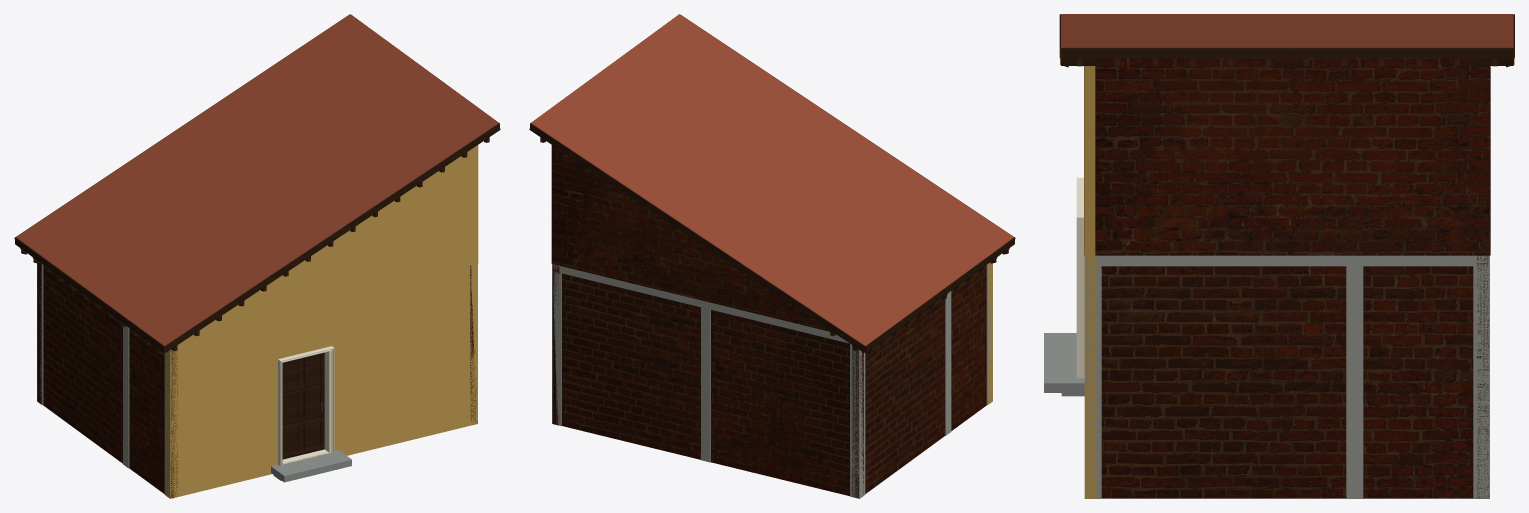
File: building.glb
The picture shows the model from 3 angles, left to right: view 1: azimuth 30°, elevation 25°; view 2: azimuth 150°, elevation 25°; view 3: azimuth 270°, elevation 25°; orthographic projection. The views are drawn at different scales.
Parts seen in each view (by area): view 1: roof_assembly/cubierta/roof_cover#0001, house:0/edge0/z0/house:0/edge0/z0/wall_0_0, house:0/edge3/z0/house:0/edge3/z0/wall_0_0, roof_assembly/cubierta/roof_gable_closure#0002, roof_assembly/cubierta/roof_fascia#0002, site/entrance/0/entrance_step#0002, roof_assembly/cubierta/roof_fascia#0001, house:0/edge3/z0/house:0/edge3/z0/column_2_0, house:0/edge0/z0/opening_u2.80_v0.12/door_panel_back#0001, house:0/edge3/z0/house:0/edge3/z0/column_1_0, house:0/edge2/z0/house:0/edge2/z0/wall_0_0, house:0/edge0/z0/opening_u2.80_v0.12/door_reveal#0001 (+1 smaller); view 2: roof_assembly/cubierta/roof_cover#0001, house:0/edge2/z0/house:0/edge2/z0/wall_0_0, house:0/edge3/z0/house:0/edge3/z0/wall_0_0, roof_assembly/cubierta/roof_gable_closure#0006, roof_assembly/cubierta/roof_fascia#0004, house:0/edge2/z0/house:0/edge2/z0/beam_0_0, house:0/edge2/z0/house:0/edge2/z0/column_2_0, house:0/edge2/z0/house:0/edge2/z0/column_1_0, house:0/edge2/z0/house:0/edge2/z0/column_0_0, roof_assembly/cubierta/roof_fascia#0001, house:0/edge3/z0/house:0/edge3/z0/column_0_0, house:0/edge3/z0/house:0/edge3/z0/column_2_0 (+4 smaller); view 3: house:0/edge1/z0/house:0/edge1/z0/wall_0_0, roof_assembly/cubierta/roof_gable_closure#0004, roof_assembly/cubierta/roof_cover#0001, roof_assembly/cubierta/roof_fascia#0003, house:0/edge1/z0/house:0/edge1/z0/beam_0_0, house:0/edge1/z0/house:0/edge1/z0/column_2_0, house:0/edge1/z0/house:0/edge1/z0/column_1_0, house:0/edge0/z0/house:0/edge0/z0/wall_0_0, house:0/edge1/z0/house:0/edge1/z0/column_0_0, roof_assembly/cubierta/roof_gable_closure#0003, site/entrance/0/entrance_step#0002, house:0/edge0/z0/opening_u2.80_v0.12/door_moulding#0028 (+1 smaller).
Part boxes in pixels (box(x1,y1,x2,y2)): roof_assembly/cubierta/roof_cover#0001: box(16, 14, 498, 346); house:0/edge0/z0/house:0/edge0/z0/wall_0_0: box(166, 264, 477, 498); house:0/edge3/z0/house:0/edge3/z0/wall_0_0: box(43, 265, 177, 498); roof_assembly/cubierta/roof_gable_closure#0002: box(199, 145, 477, 331); roof_assembly/cubierta/roof_fascia#0002: box(163, 124, 500, 352); site/entrance/0/entrance_step#0002: box(271, 450, 351, 482); roof_assembly/cubierta/roof_fascia#0001: box(15, 238, 165, 352); house:0/edge3/z0/house:0/edge3/z0/column_2_0: box(123, 326, 129, 468); house:0/edge0/z0/opening_u2.80_v0.12/door_panel_back#0001: box(282, 357, 320, 451); house:0/edge3/z0/house:0/edge3/z0/column_1_0: box(164, 350, 170, 497); house:0/edge2/z0/house:0/edge2/z0/wall_0_0: box(37, 262, 41, 404); house:0/edge0/z0/opening_u2.80_v0.12/door_reveal#0001: box(278, 352, 328, 463); roof_assembly/cubierta/roof_cover#0001: box(531, 14, 1013, 345); house:0/edge2/z0/house:0/edge2/z0/wall_0_0: box(562, 273, 863, 496); house:0/edge3/z0/house:0/edge3/z0/wall_0_0: box(852, 265, 986, 498); roof_assembly/cubierta/roof_gable_closure#0006: box(558, 149, 830, 331); roof_assembly/cubierta/roof_fascia#0004: box(529, 124, 866, 352); house:0/edge2/z0/house:0/edge2/z0/beam_0_0: box(552, 264, 849, 343); house:0/edge2/z0/house:0/edge2/z0/column_2_0: box(701, 307, 710, 462); house:0/edge2/z0/house:0/edge2/z0/column_1_0: box(850, 344, 859, 498); house:0/edge2/z0/house:0/edge2/z0/column_0_0: box(552, 271, 561, 426); roof_assembly/cubierta/roof_fascia#0001: box(864, 238, 1014, 352); house:0/edge3/z0/house:0/edge3/z0/column_0_0: box(859, 350, 865, 498); house:0/edge3/z0/house:0/edge3/z0/column_2_0: box(945, 291, 951, 435); house:0/edge1/z0/house:0/edge1/z0/wall_0_0: box(1101, 266, 1473, 498); roof_assembly/cubierta/roof_gable_closure#0004: box(1095, 58, 1489, 255); roof_assembly/cubierta/roof_cover#0001: box(1061, 14, 1513, 47); roof_assembly/cubierta/roof_fascia#0003: box(1061, 48, 1513, 58); house:0/edge1/z0/house:0/edge1/z0/beam_0_0: box(1084, 255, 1489, 266); house:0/edge1/z0/house:0/edge1/z0/column_2_0: box(1346, 266, 1363, 498); house:0/edge1/z0/house:0/edge1/z0/column_1_0: box(1473, 266, 1489, 498); house:0/edge0/z0/house:0/edge0/z0/wall_0_0: box(1084, 255, 1097, 498); house:0/edge1/z0/house:0/edge1/z0/column_0_0: box(1084, 266, 1101, 498); roof_assembly/cubierta/roof_gable_closure#0003: box(1084, 66, 1095, 255); site/entrance/0/entrance_step#0002: box(1044, 333, 1084, 392); house:0/edge0/z0/opening_u2.80_v0.12/door_moulding#0028: box(1076, 177, 1084, 378).
Bounding box in the file's own units: 8.76 × 7.58 × 6.97.
8 materials, 2 textured.
